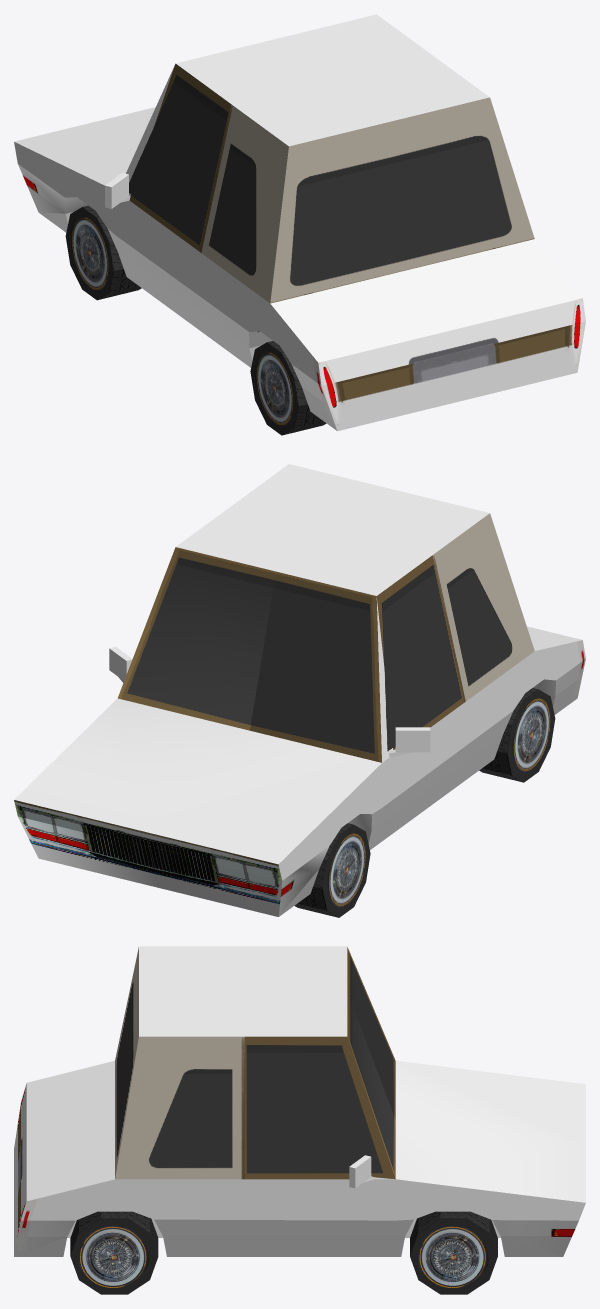
File: pimpmobile.glb
The picture shows the model from 3 angles, top to bottom: view 1: azimuth 30°, elevation 25°; view 2: azimuth 150°, elevation 25°; view 3: azimuth 270°, elevation 25°; orthographic projection. The views are drawn at different scales.
Visible parts, largest first — view 1: Body, Wheel_L2, Wheel_L1; view 2: Body, Wheel_L1, Wheel_L2; view 3: Body, Wheel_R1, Wheel_R2.
Boxes of the visible parts, <box> form: Body: <box>14,14,585,431</box>; Wheel_L2: <box>65,205,141,300</box>; Wheel_L1: <box>250,341,326,435</box>; Body: <box>14,464,585,916</box>; Wheel_L1: <box>479,688,555,782</box>; Wheel_L2: <box>294,823,370,917</box>; Body: <box>14,946,585,1256</box>; Wheel_R1: <box>70,1211,158,1294</box>; Wheel_R2: <box>410,1211,497,1294</box>.
Size of the model in its own units: 1.95 by 1.53 by 3.23.
9 materials, 3 textured.
